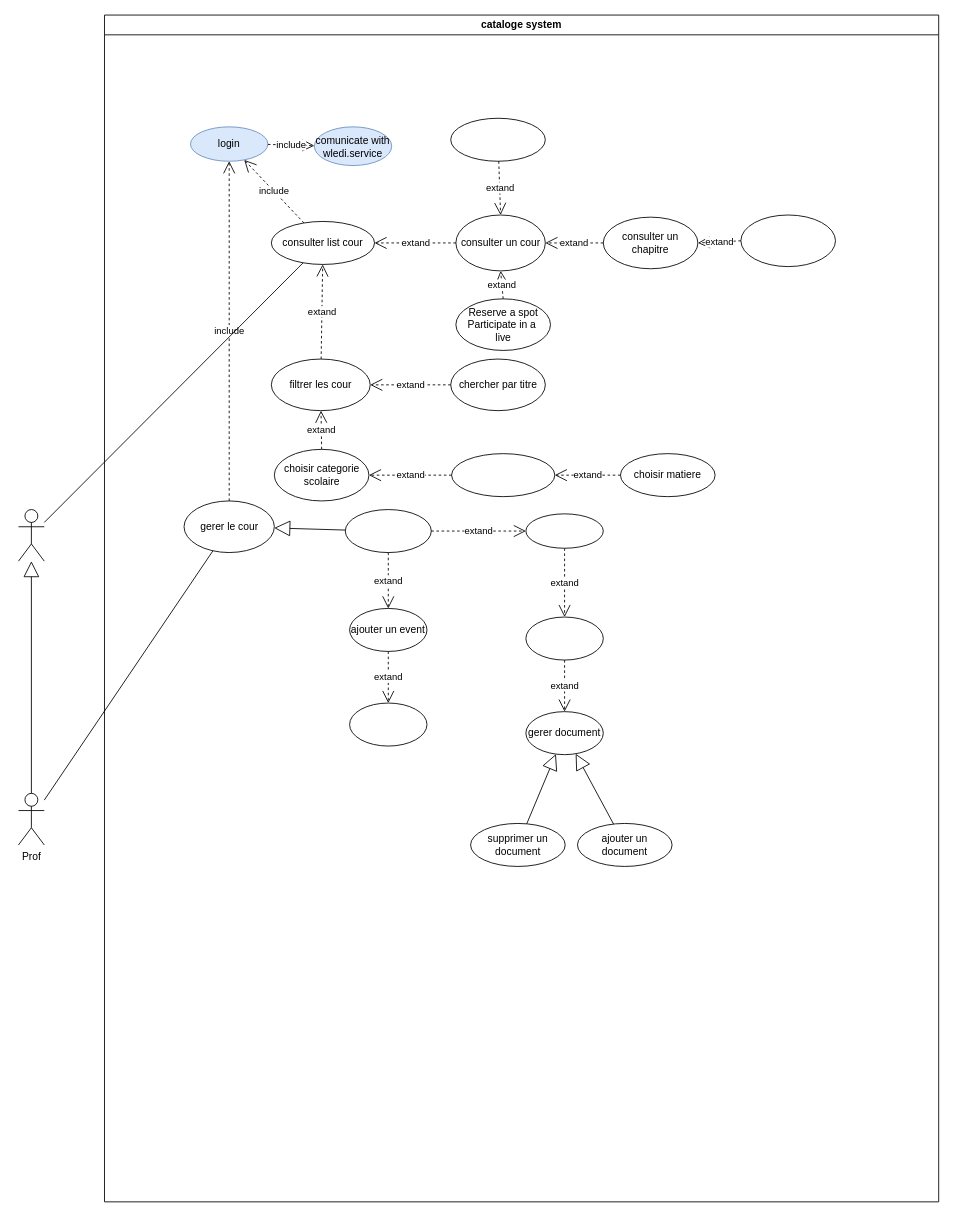
The diagram is 954 pixels wide and 1217 high, and some of its shapes have lost their labels. Here are the shapes that lost their labels. From the top down, the box of each, then its label:
(450, 117, 545, 161): Add feedback/like
(740, 214, 835, 267): consulter un document
(451, 453, 555, 497): choisir niveau
(18, 509, 44, 561): visiteur
(344, 509, 431, 553): ajouter un cour
(525, 513, 603, 548): gerer chapire
(525, 616, 603, 660): gerer chapitre
(349, 702, 427, 746): realiser un live stream
